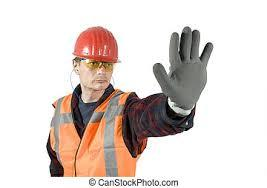Gloves: (149, 26, 215, 113)
Helmet: (71, 21, 127, 64)
Jacket: (52, 90, 137, 179)
